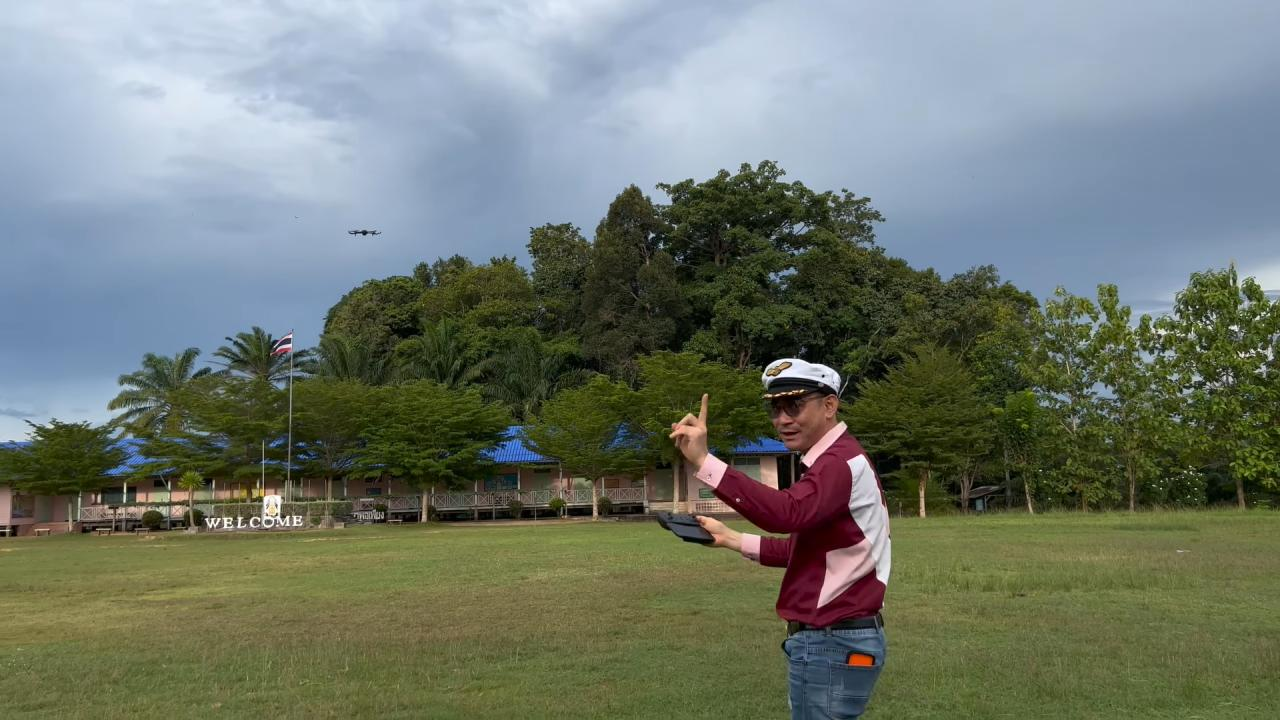Drone: (341, 218, 387, 245)
